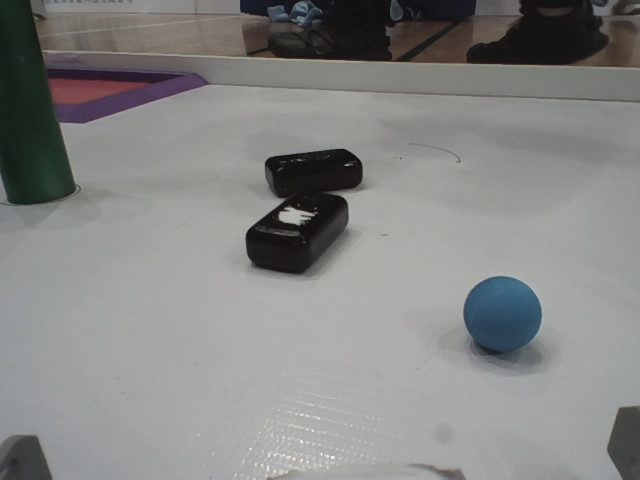black: (231, 191, 371, 283), (242, 148, 387, 196)
blue: (444, 265, 559, 362)
kuang: (1, 53, 226, 126)
zhuzi: (1, 1, 91, 214)
